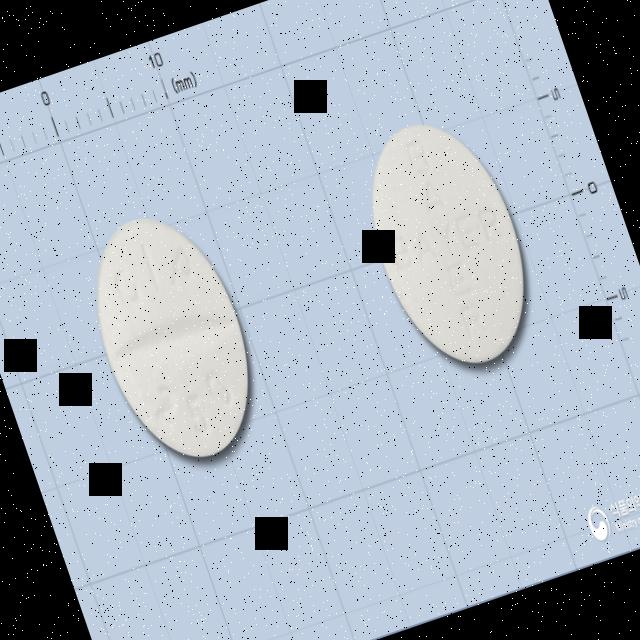Ciprobay: (336, 97, 562, 396), (61, 191, 288, 485)
